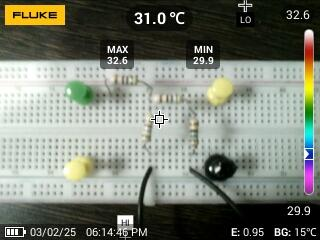resistor: (140, 113, 155, 146), (187, 117, 201, 151), (149, 92, 184, 105), (109, 73, 141, 86)
